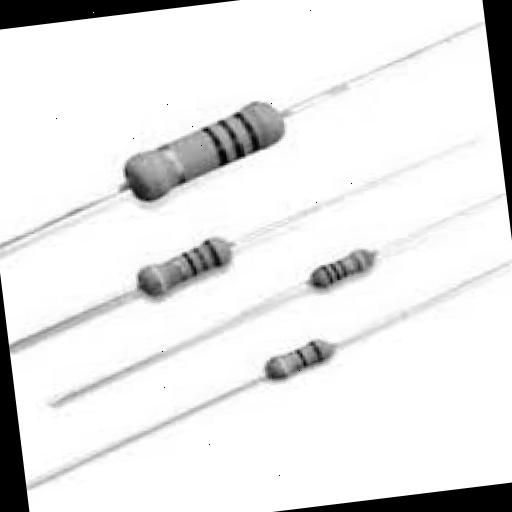RESISTOR: (54, 71, 335, 260), (102, 218, 268, 344), (206, 320, 369, 426), (254, 232, 386, 334)
